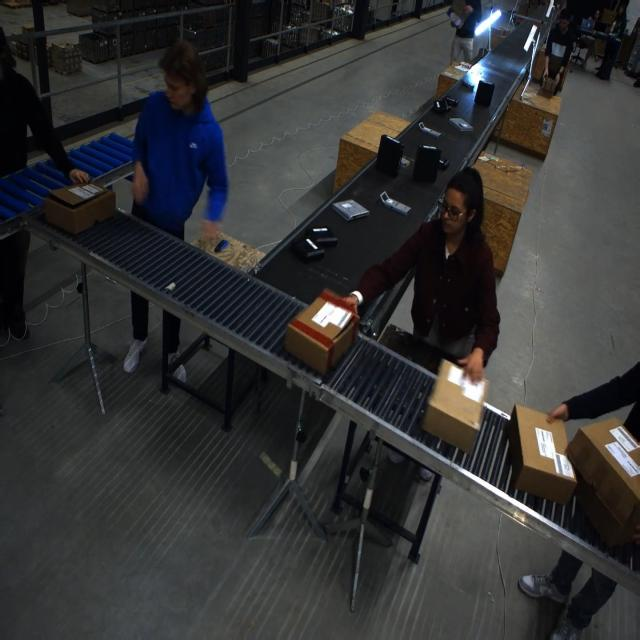box: (565, 416, 640, 550), (506, 405, 574, 503), (286, 290, 357, 372), (420, 358, 484, 446), (44, 182, 114, 235)
product: (375, 134, 404, 178), (412, 143, 440, 183), (291, 236, 323, 264), (332, 199, 369, 221), (379, 191, 411, 216), (307, 224, 337, 247), (473, 80, 495, 107), (449, 117, 474, 132), (418, 122, 441, 138), (432, 100, 450, 114), (445, 96, 459, 108)
